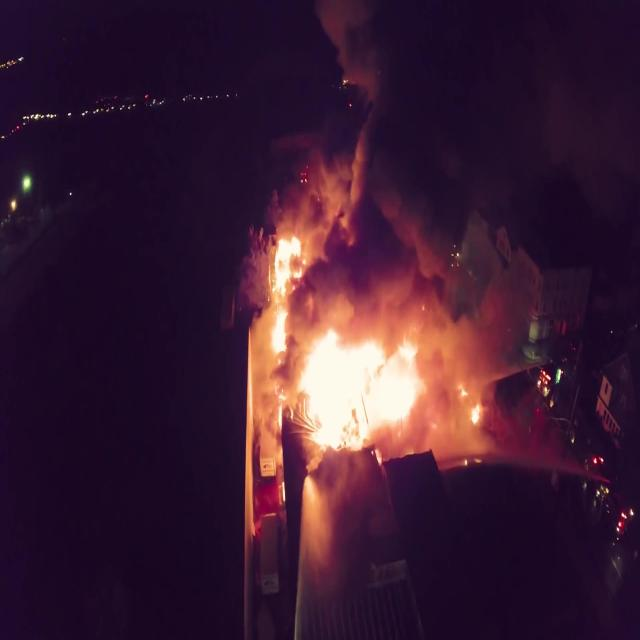Fire: (285, 324, 488, 448), (268, 224, 301, 354)
Smoke: (216, 0, 640, 291)
